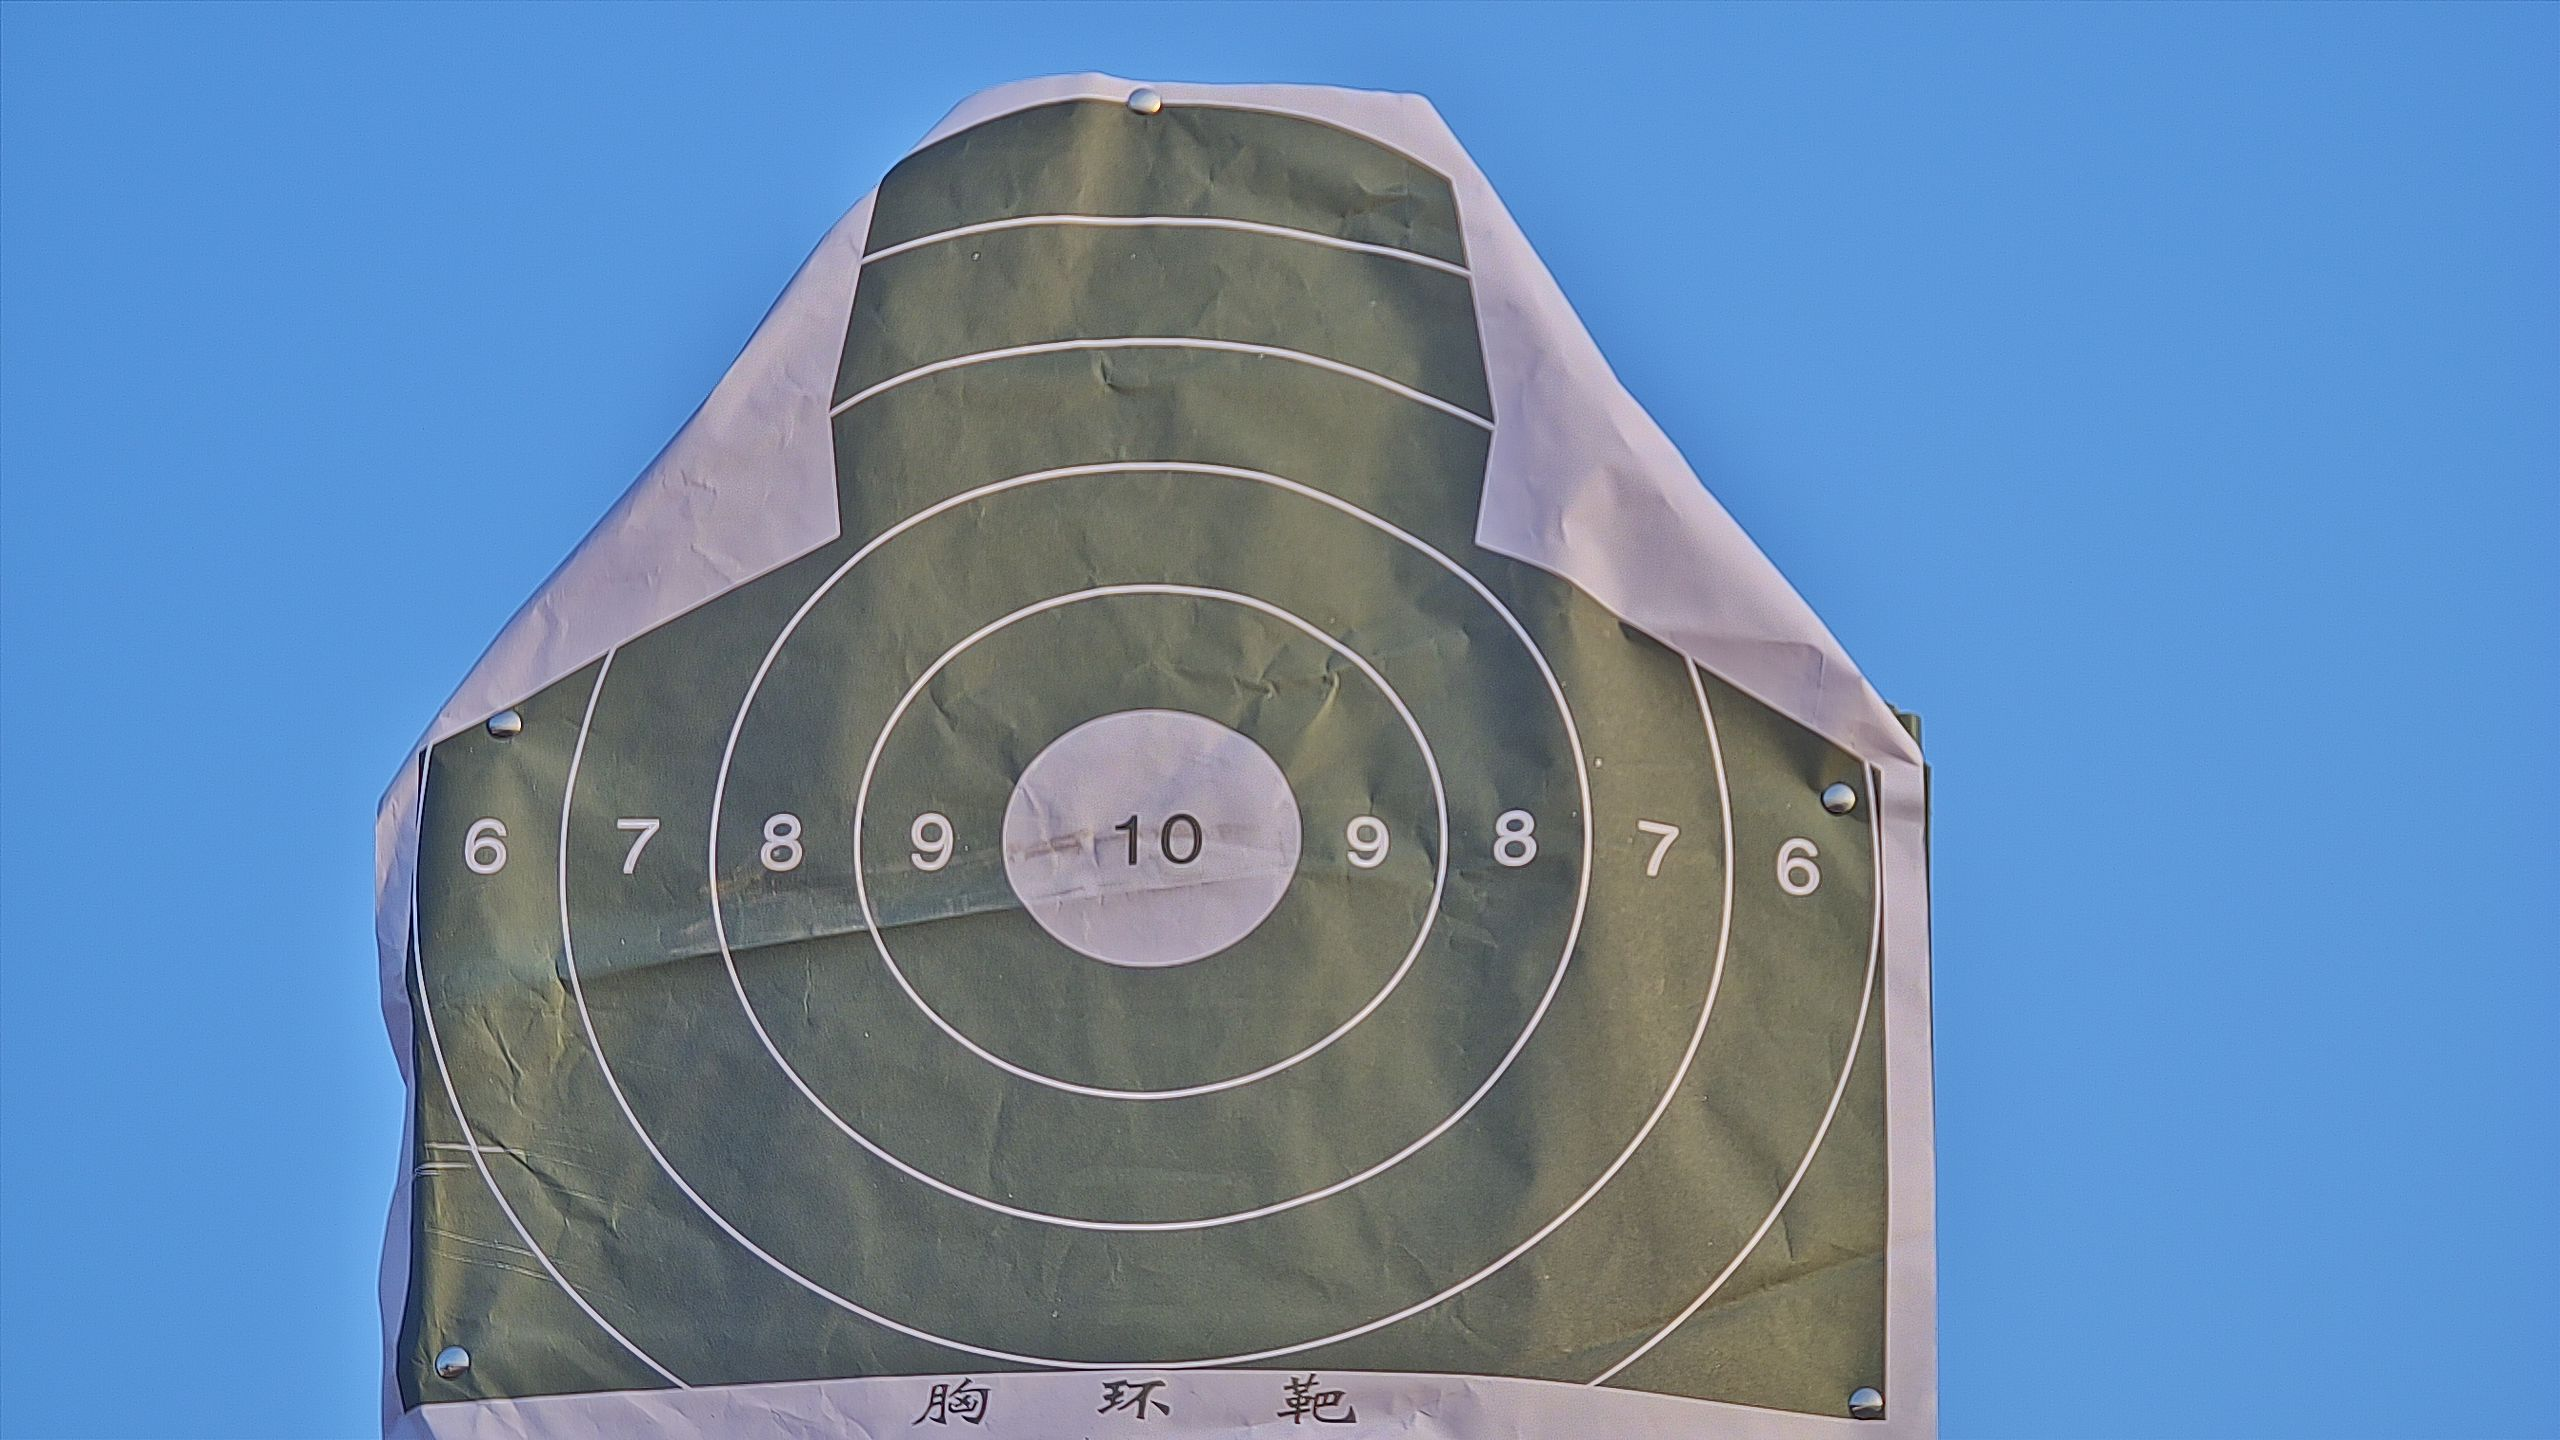kernel: (1148, 840, 1152, 846)
target: (415, 105, 1894, 1407)
ten: (999, 702, 1303, 971)
